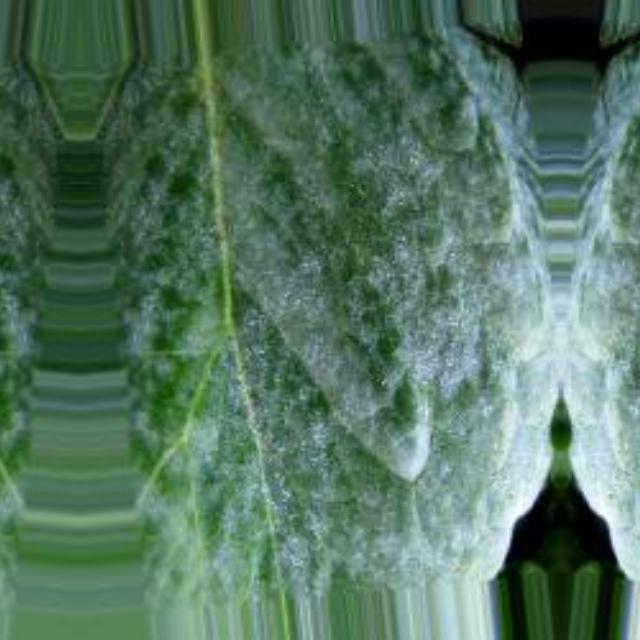Powdery_mildew: (118, 90, 524, 566), (596, 90, 640, 566), (0, 90, 40, 566)
